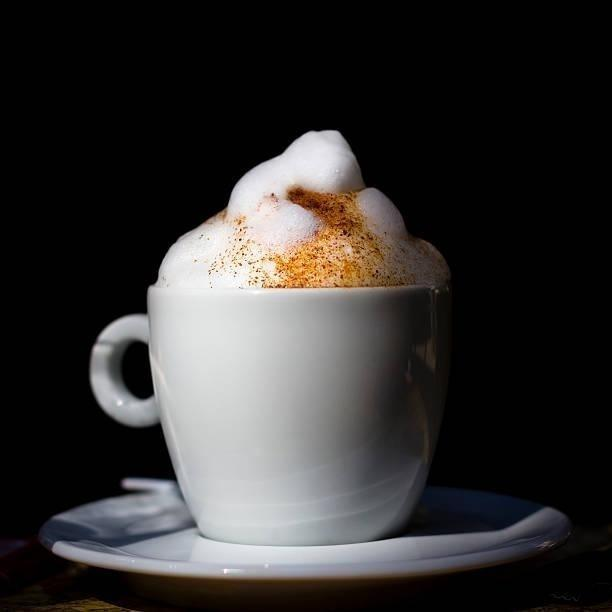cup-handle: (88, 272, 455, 547)
